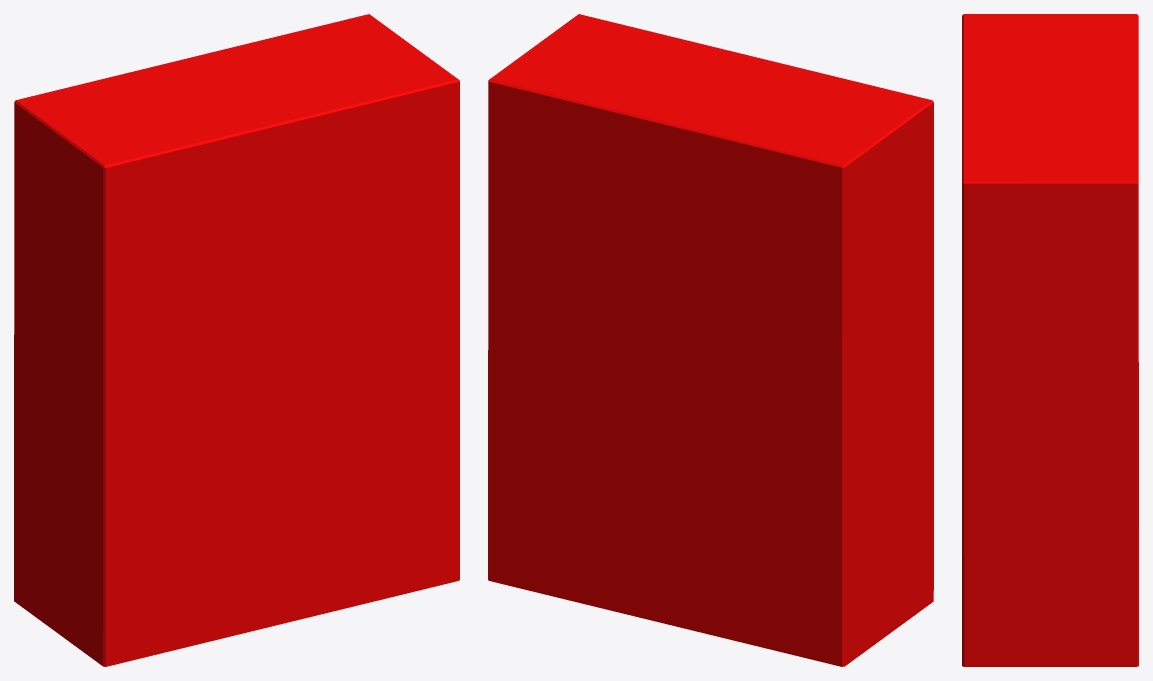
The model's file is Fp301_Ps_301_Shelf_1_PsDesk_312_6_6.obj.
3 renders of one model, left to right at view 1: azimuth 30°, elevation 25°; view 2: azimuth 150°, elevation 25°; view 3: azimuth 270°, elevation 25°, orthographic. The views are drawn at different scales.
Parts seen in each view (by area): view 1: PsDesk_312_6; view 2: PsDesk_312_6; view 3: PsDesk_312_6.
Part boxes in pixels (x1,y1,x2,y2): PsDesk_312_6: (14, 14, 459, 666); PsDesk_312_6: (488, 14, 933, 666); PsDesk_312_6: (962, 14, 1138, 666).
Size of the model in its own units: 0.3718 by 0.4988 by 0.1648.
